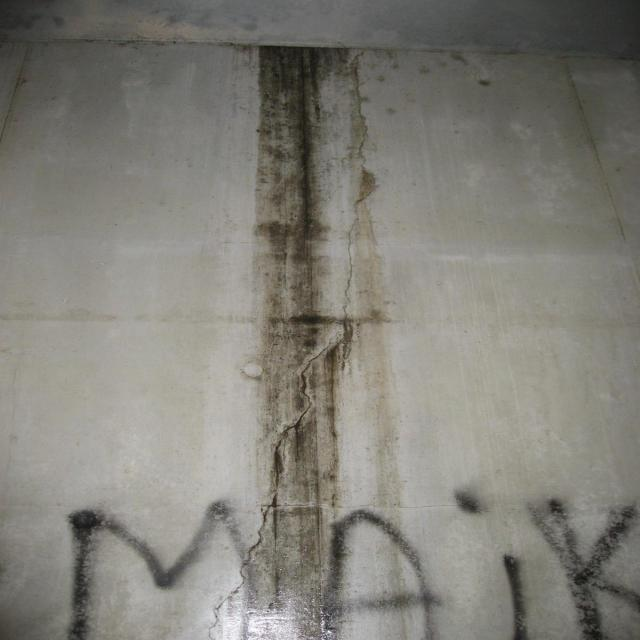vertical crack: (207, 46, 374, 640)
